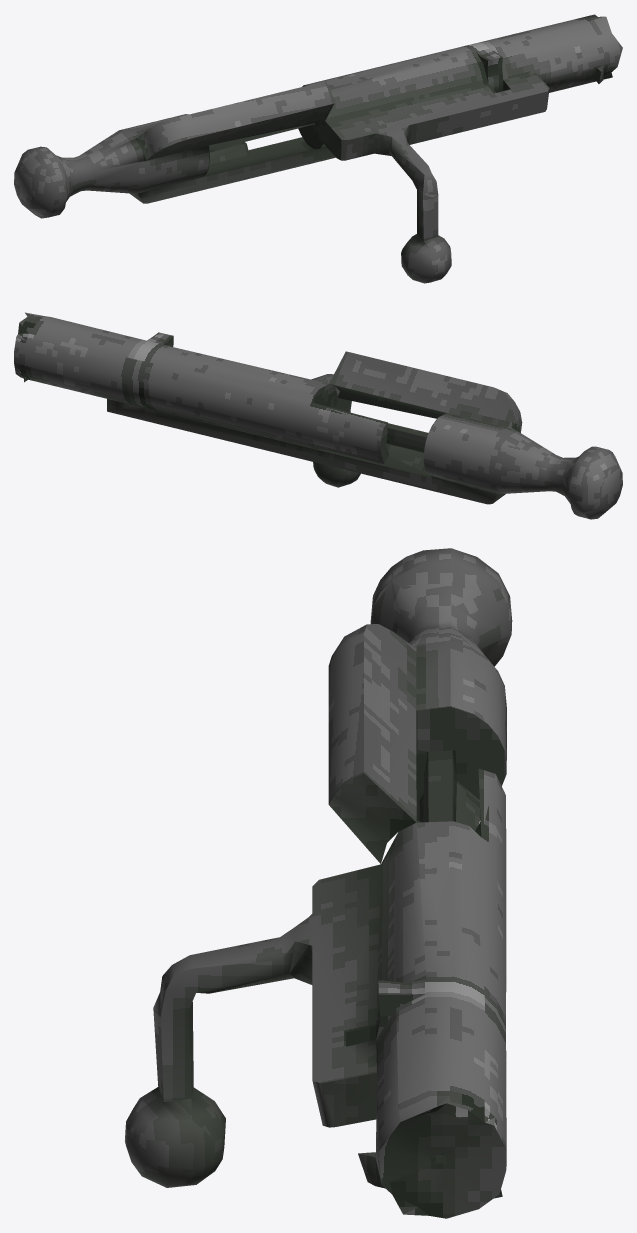
The model's file is bolt_action_rifle_7_62_bolt.glb.
3 renders of one model, top to bottom at view 1: azimuth 30°, elevation 25°; view 2: azimuth 150°, elevation 25°; view 3: azimuth 270°, elevation 25°, orthographic. The views are drawn at different scales.
Parts seen in each view (by area): view 1: body; view 2: body; view 3: body.
Boxes of the visible parts, bbox=[...] form: body: bbox=[14, 14, 622, 283]; body: bbox=[14, 312, 622, 519]; body: bbox=[125, 548, 512, 1218].
Bounding box in the file's own units: 0.1708 × 0.05 × 0.0492.
Materials: 1 (1 with a texture image).
